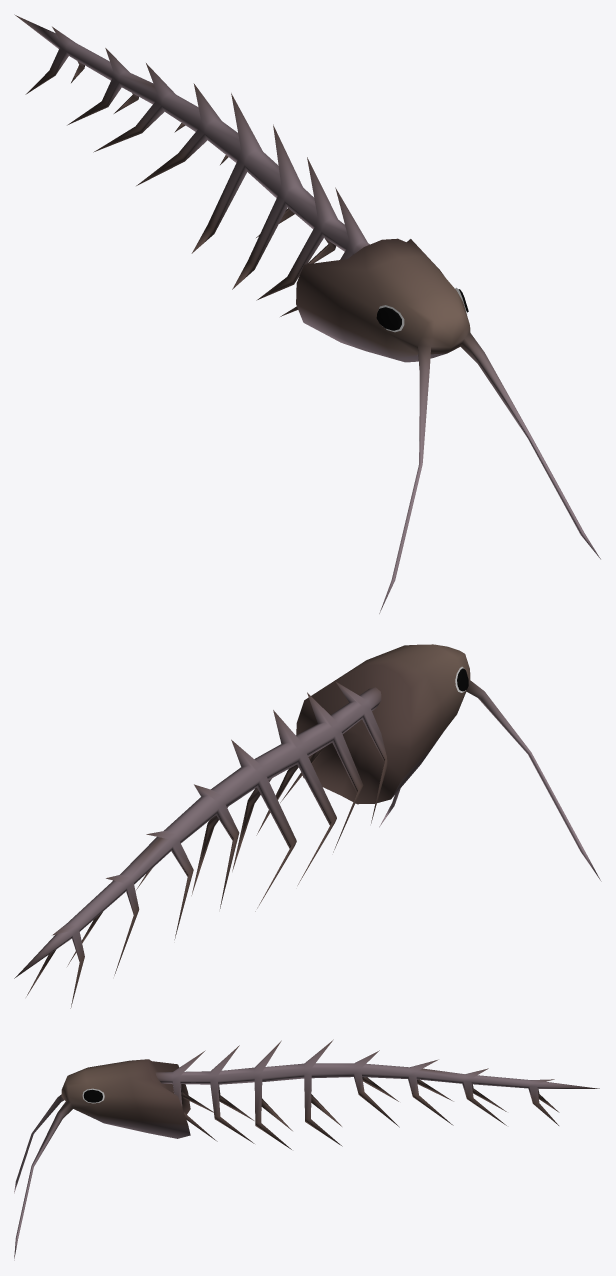
Rendered from underwater-crustaceans-tiny-shrimp_v1.glb.
The picture shows the model from 3 angles, top to bottom: view 1: azimuth 30°, elevation 25°; view 2: azimuth 150°, elevation 25°; view 3: azimuth 270°, elevation 25°; orthographic projection. The views are drawn at different scales.
Visible parts, largest first — view 1: Tiny Shrimp; view 2: Tiny Shrimp; view 3: Tiny Shrimp.
Boxes of the visible parts, <box> form: Tiny Shrimp: <box>14,14,600,613</box>; Tiny Shrimp: <box>14,644,601,1008</box>; Tiny Shrimp: <box>14,1039,599,1260</box>.
Bounding box in the file's own units: 0.00271 × 0.00354 × 0.01.
